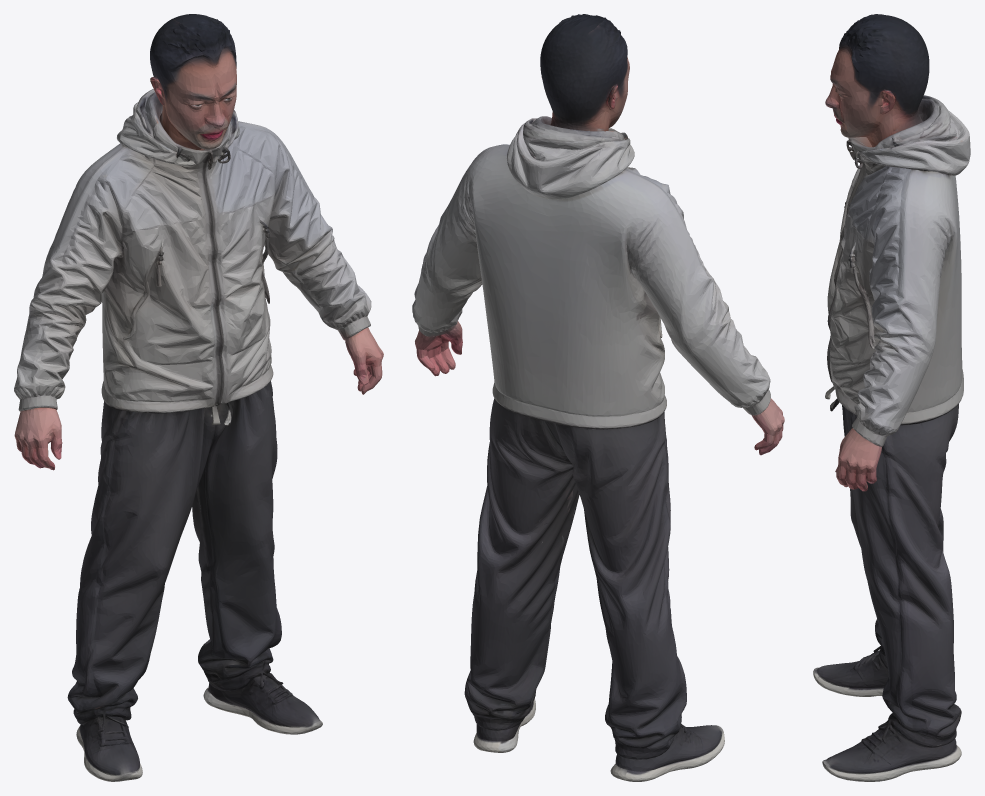
3 renders of one model, left to right at view 1: azimuth 30°, elevation 25°; view 2: azimuth 150°, elevation 25°; view 3: azimuth 270°, elevation 25°, orthographic.
Parts seen in each view (by area): view 1: material; view 2: material; view 3: material.
Boxes of the visible parts, box(x1,y1,x2,y2) form: material: box(14, 14, 383, 781); material: box(412, 14, 784, 781); material: box(813, 14, 970, 781).
Size of the model in its own units: 0.6004 by 1.14 by 0.2295.
Materials: 1 (1 with a texture image).
